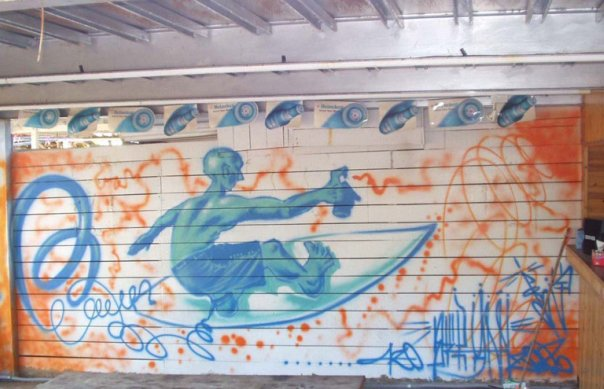graffity: (10, 113, 585, 383)
